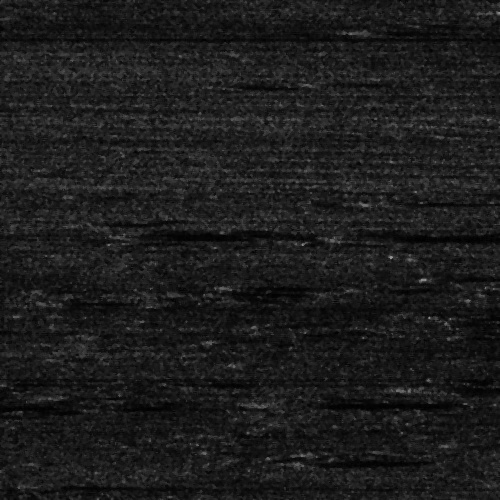object: (240, 398, 333, 409), (424, 380, 497, 391), (331, 229, 404, 240), (114, 229, 177, 238), (352, 199, 405, 204), (353, 26, 394, 31), (304, 457, 335, 460)
shadow: (146, 229, 323, 238), (287, 398, 428, 409), (368, 229, 500, 240), (379, 199, 468, 204), (460, 380, 500, 391), (374, 26, 457, 31), (320, 457, 406, 460)
